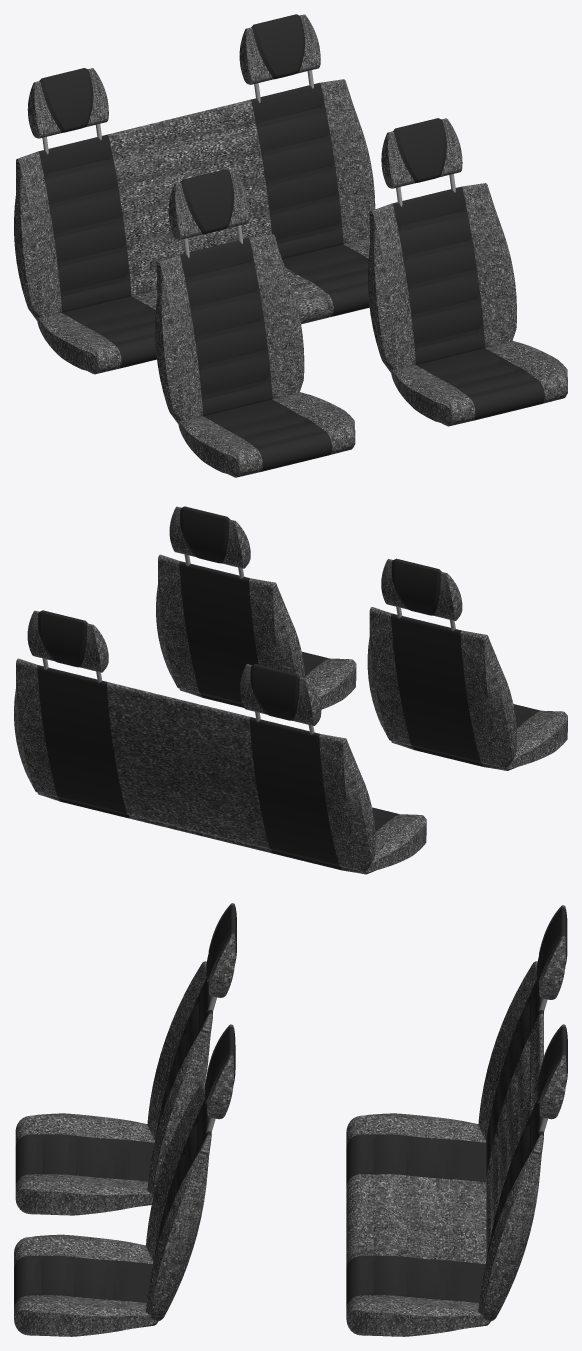
File: car_seat.dae
3 views of the same model, one above another, from view 1: azimuth 30°, elevation 25°; view 2: azimuth 150°, elevation 25°; view 3: azimuth 270°, elevation 25° (orthographic). The views are drawn at different scales.
Parts seen in each view (by area): view 1: Group28, Group26, Group4, Group14, Group25, Group13, Group3, Group24, Group15, Group5, Group27, Group9 (+13 smaller); view 2: Group28, Group26, Group25, Group14, Group4, Group24, Group13, Group6, Group22, Group16, Group23, Group3 (+10 smaller); view 3: Group33, Group31, Group19, Group30, Group9, Group5, Group27, Group8, Group29, Group18, Group28, Group15 (+14 smaller).
Part boxes in pixels (x1,y1,x2,y2): Group28: [108, 100, 271, 295]; Group26: [38, 134, 131, 312]; Group4: [392, 186, 485, 364]; Group14: [179, 238, 272, 416]; Group25: [250, 83, 343, 259]; Group13: [155, 255, 202, 424]; Group3: [368, 203, 415, 373]; Group24: [14, 151, 61, 321]; Group15: [249, 234, 304, 399]; Group5: [462, 183, 516, 347]; Group27: [320, 79, 375, 244]; Group9: [416, 348, 544, 420]; Group28: [107, 682, 270, 849]; Group26: [249, 717, 339, 866]; Group25: [37, 665, 127, 814]; Group14: [391, 613, 480, 762]; Group4: [179, 561, 258, 703]; Group24: [319, 734, 375, 871]; Group13: [460, 630, 516, 768]; Group6: [169, 506, 250, 578]; Group22: [27, 610, 108, 682]; Group16: [381, 558, 462, 631]; Group23: [240, 663, 321, 734]; Group3: [249, 578, 304, 677]; Group33: [346, 1174, 486, 1269]; Group31: [346, 1134, 486, 1187]; Group19: [15, 1134, 154, 1184]; Group30: [346, 1255, 485, 1308]; Group9: [14, 1255, 152, 1307]; Group5: [146, 1134, 211, 1321]; Group27: [478, 1134, 543, 1321]; Group8: [14, 1295, 158, 1336]; Group29: [346, 1295, 490, 1336]; Group18: [15, 1174, 153, 1215]; Group28: [486, 1013, 543, 1259]; Group15: [147, 1013, 212, 1196].
Size of the model in its own units: 825 by 962 by 506.
3 materials, 1 textured.
